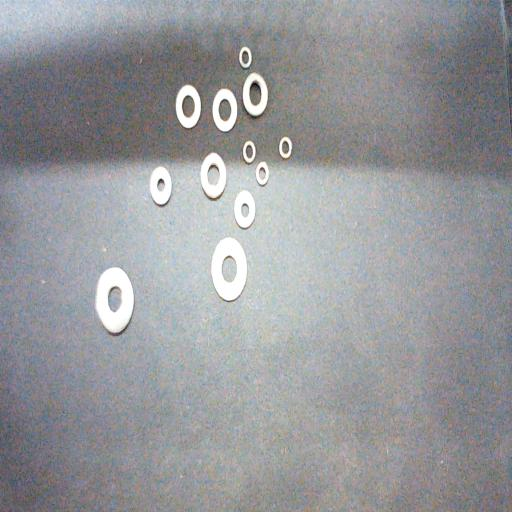washer: (94, 267, 134, 333), (211, 236, 247, 301), (200, 152, 226, 198), (242, 71, 268, 117), (213, 87, 238, 133), (176, 84, 201, 128), (150, 166, 172, 205), (234, 190, 256, 229), (239, 45, 253, 69), (242, 140, 256, 164), (279, 135, 292, 159), (256, 161, 269, 185)
